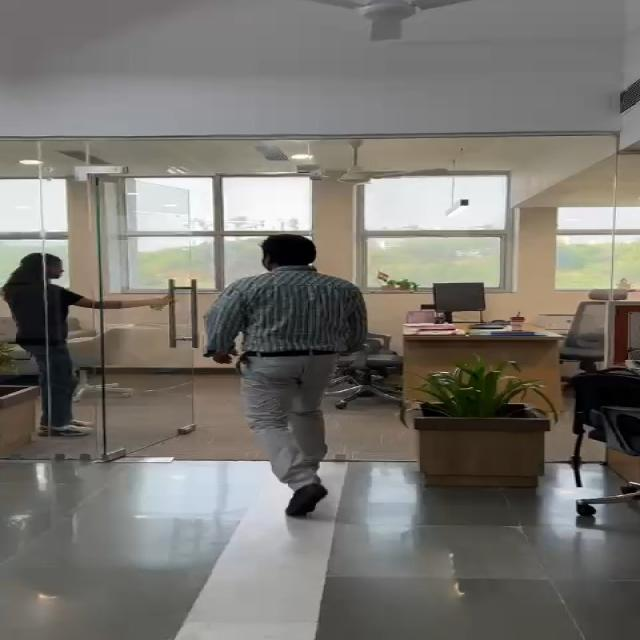floor: (6, 515, 640, 640)
furniture: (554, 296, 638, 539), (416, 364, 539, 501), (411, 269, 509, 344), (66, 315, 148, 399), (0, 373, 44, 458)
moving_object: (232, 233, 362, 507), (16, 251, 123, 454)
wall: (0, 132, 640, 238)
